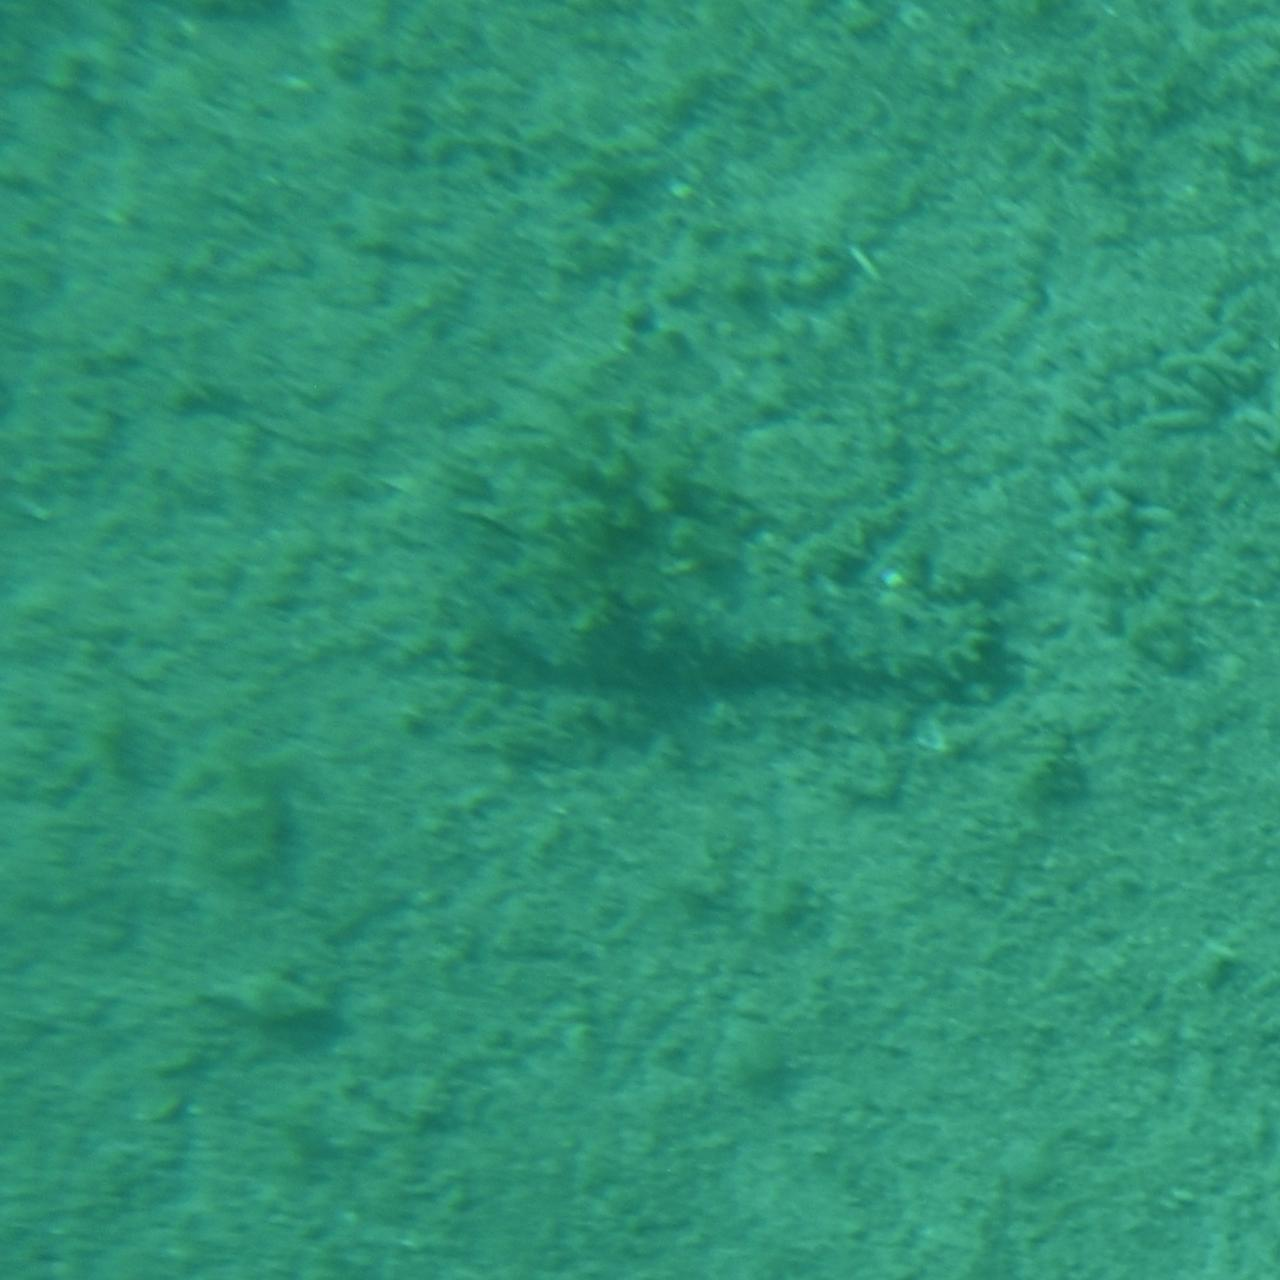Holothuria tubulosa: (255, 574, 1025, 706)
